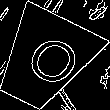O_SW: (10, 28, 79, 93)
